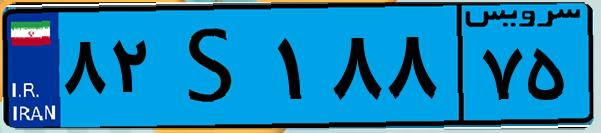1: (270, 28, 330, 110)
2: (110, 28, 158, 98)
5: (525, 38, 570, 115)
7: (475, 38, 525, 113)
8: (385, 28, 445, 110), (330, 28, 385, 110), (57, 26, 110, 100)
S: (158, 12, 270, 120)
